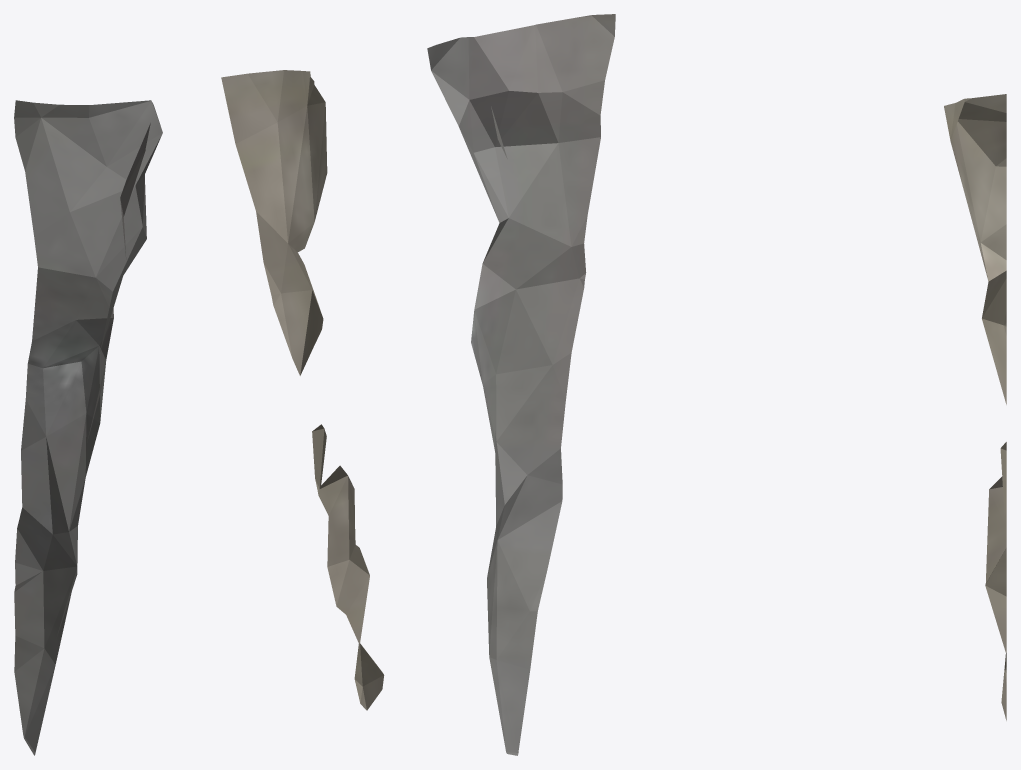
The picture shows the model from 3 angles, left to right: view 1: azimuth 30°, elevation 25°; view 2: azimuth 150°, elevation 25°; view 3: azimuth 270°, elevation 25°; orthographic projection. The views are drawn at different scales.
Bounding box in the file's own units: 0.1221 × 0.3386 × 0.1498.
Materials: 1 (1 with a texture image).
